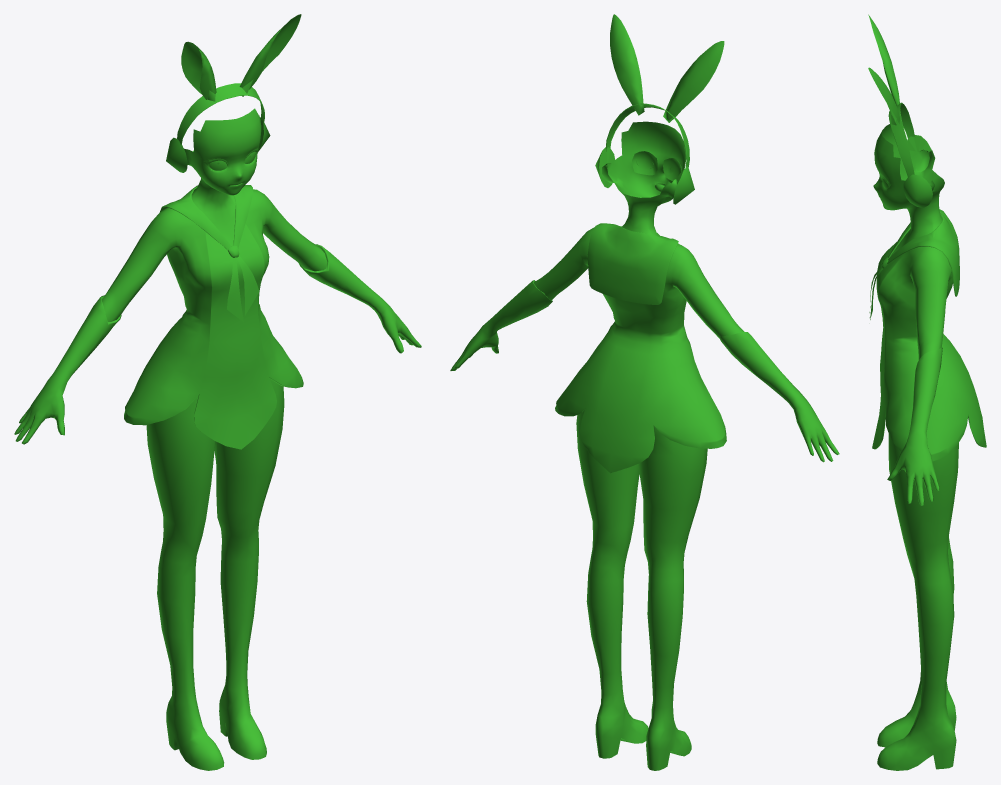
The picture shows the model from 3 angles, left to right: view 1: azimuth 30°, elevation 25°; view 2: azimuth 150°, elevation 25°; view 3: azimuth 270°, elevation 25°; orthographic projection. The views are drawn at different scales.
Visible parts, largest first — view 1: Tarantella.001; view 2: Tarantella.001; view 3: Tarantella.001.
Part boxes in pixels (x1,y1,x2,y2): Tarantella.001: [14, 14, 421, 770]; Tarantella.001: [450, 14, 839, 770]; Tarantella.001: [868, 14, 986, 770].
Bounding box in the file's own units: 87.18 × 154 × 23.29.
